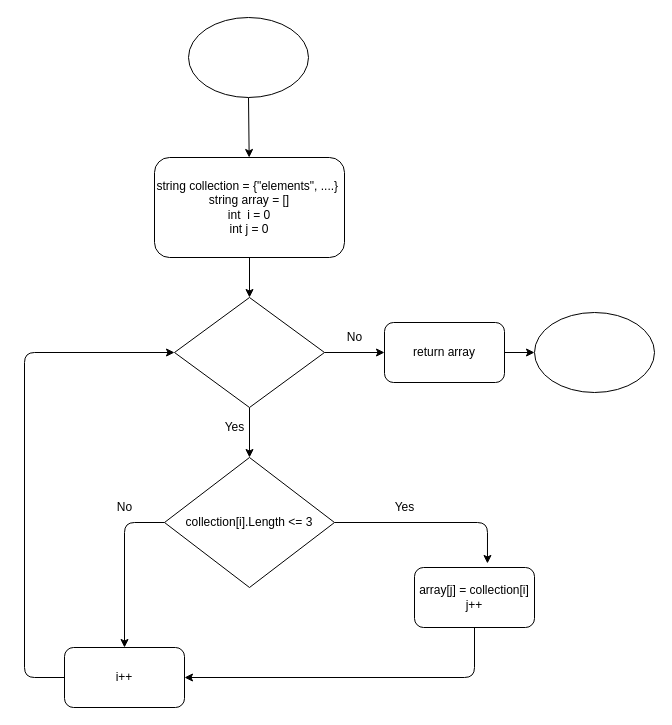
This 672x725 diagram has some shape labels left out. Each missing label, with the box of its shape:
End: (534, 312, 654, 392)
i < collection.Length: (174, 296, 324, 408)
Start: (188, 16, 308, 98)
